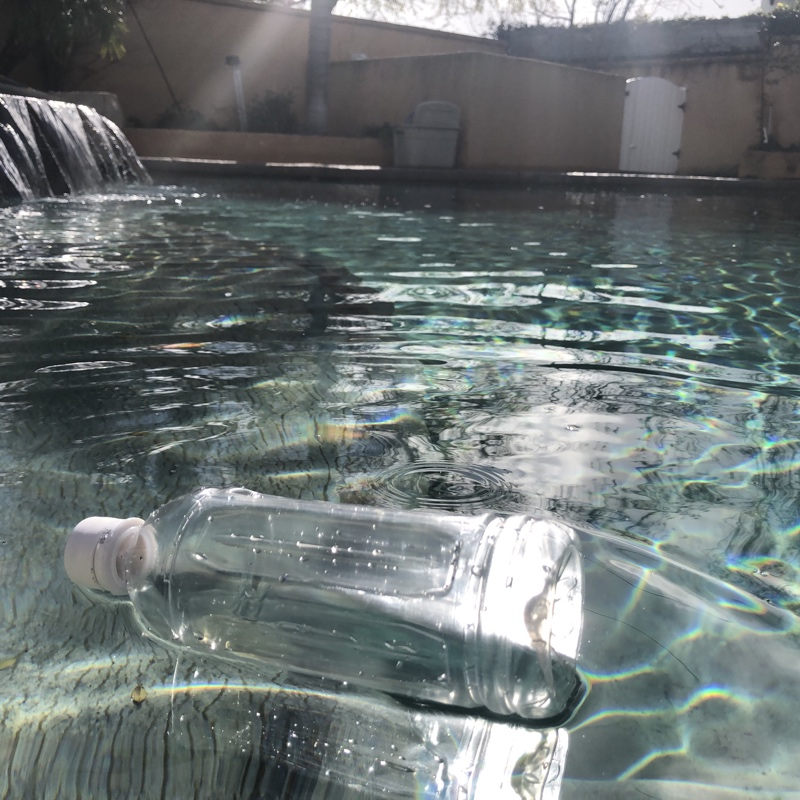Plastic Bottle: (56, 483, 592, 726)
